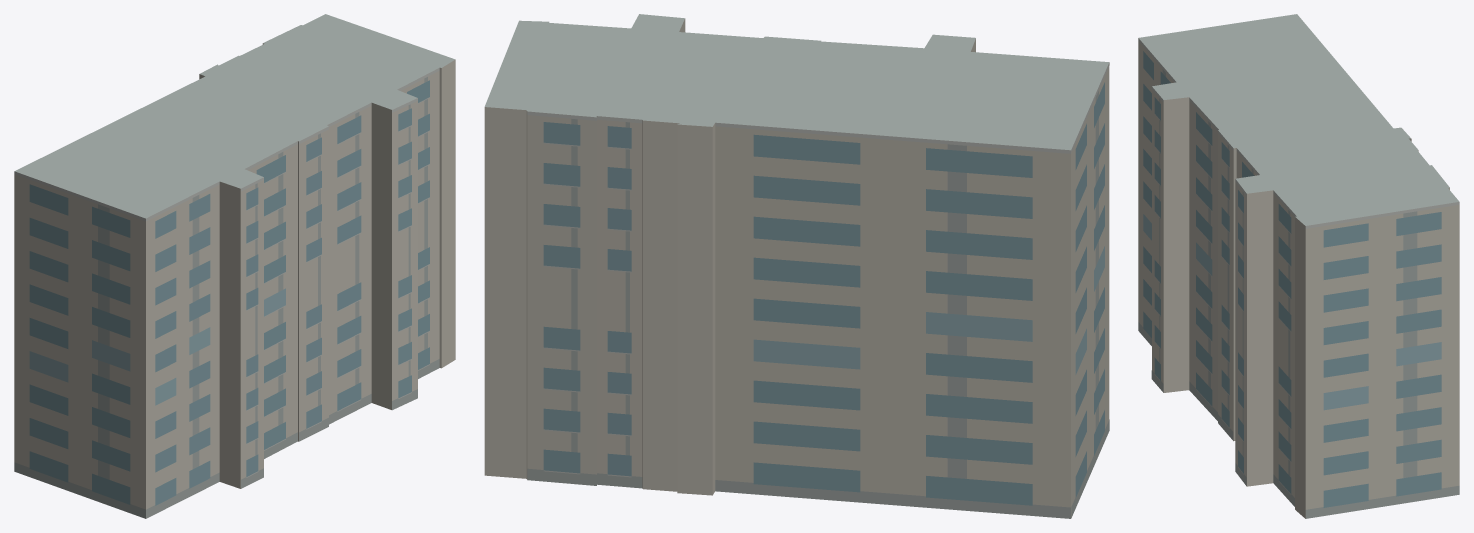
The model's file is survey-upis-32850409.glb.
3 views of the same model, side by side, from view 1: azimuth 30°, elevation 25°; view 2: azimuth 150°, elevation 25°; view 3: azimuth 270°, elevation 25° (orthographic). The views are drawn at different scales.
Visible parts, largest first — view 1: survey-upis-32850409.tmp; view 2: survey-upis-32850409.tmp; view 3: survey-upis-32850409.tmp.
Boxes of the visible parts, x1=… form: survey-upis-32850409.tmp: x1=14, y1=14, x2=455, y2=518; survey-upis-32850409.tmp: x1=484, y1=14, x2=1109, y2=518; survey-upis-32850409.tmp: x1=1138, y1=14, x2=1459, y2=518.
Size of the model in its own units: 38.5 by 24.8 by 24.66.
